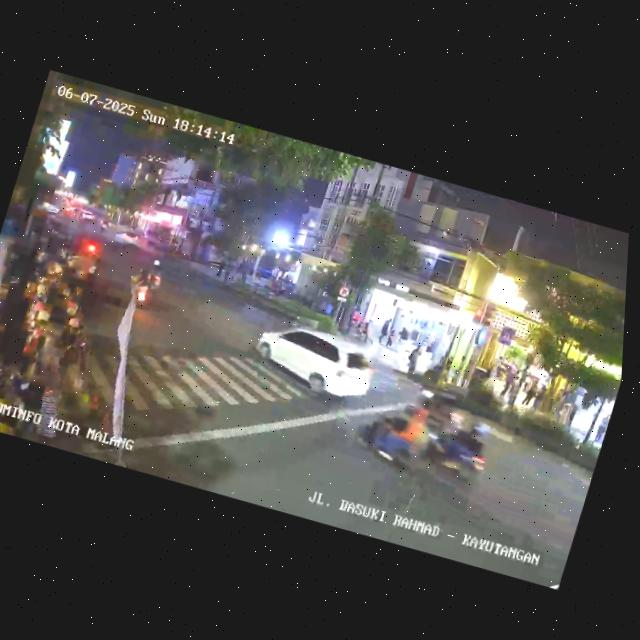car: (247, 314, 383, 411), (109, 226, 146, 254)
motorcycle: (345, 387, 439, 483), (410, 401, 502, 490), (121, 263, 158, 313), (141, 256, 168, 296), (95, 215, 110, 234)
person: (28, 354, 80, 441), (401, 342, 422, 378), (529, 381, 548, 413), (520, 376, 537, 410), (374, 316, 392, 348), (496, 373, 513, 404), (593, 414, 610, 445), (564, 401, 579, 430), (382, 327, 398, 351), (213, 258, 227, 279), (221, 260, 233, 283)
